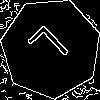L: (26, 23, 78, 76)
